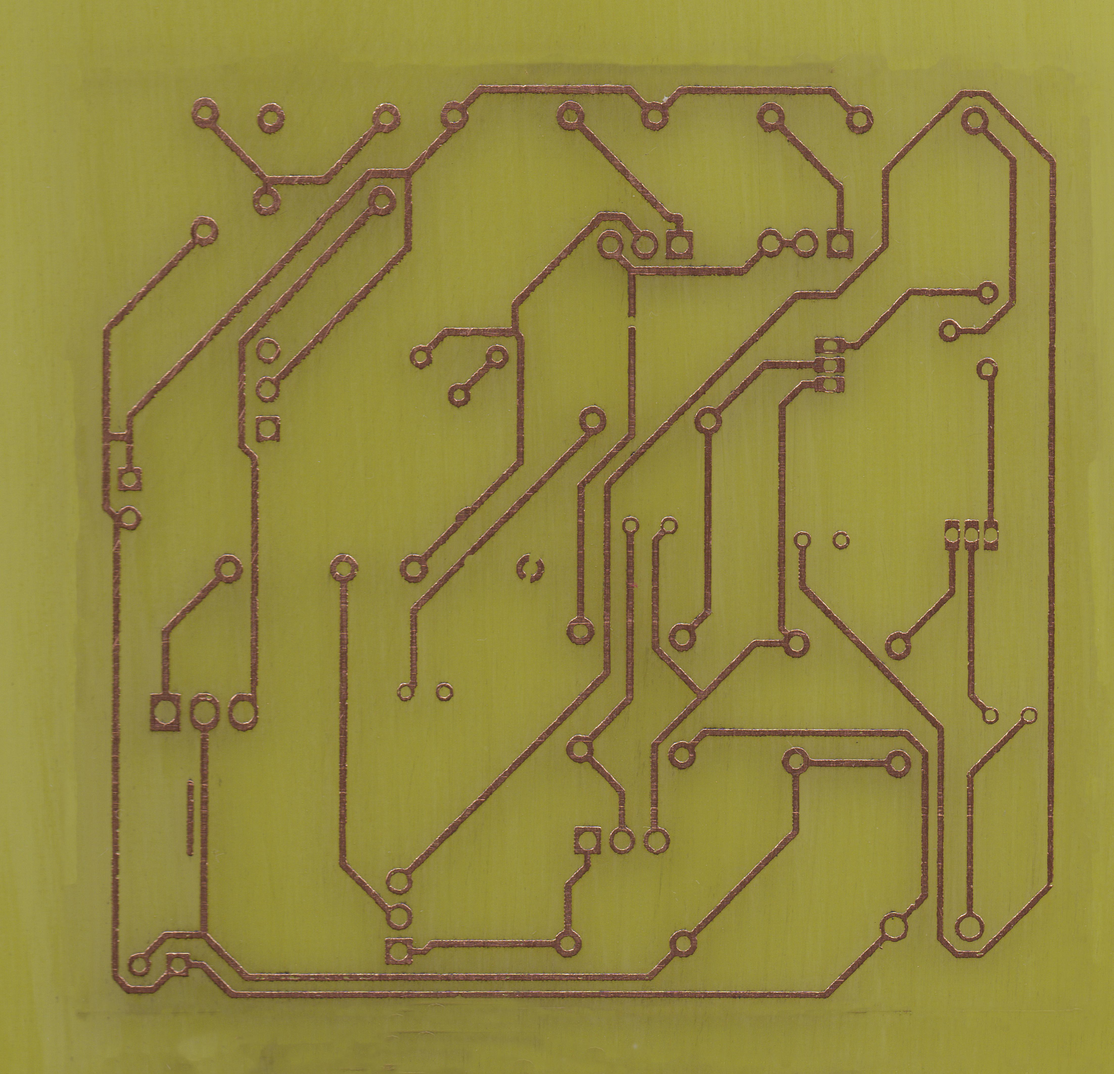missing_hole: (513, 553, 547, 585), (982, 519, 1002, 549)
mouse_bite: (458, 547, 480, 570)
open_circuit: (621, 304, 645, 337)
short: (97, 428, 136, 446)
spur: (447, 505, 475, 526)
spurious_copper: (185, 775, 198, 861)
